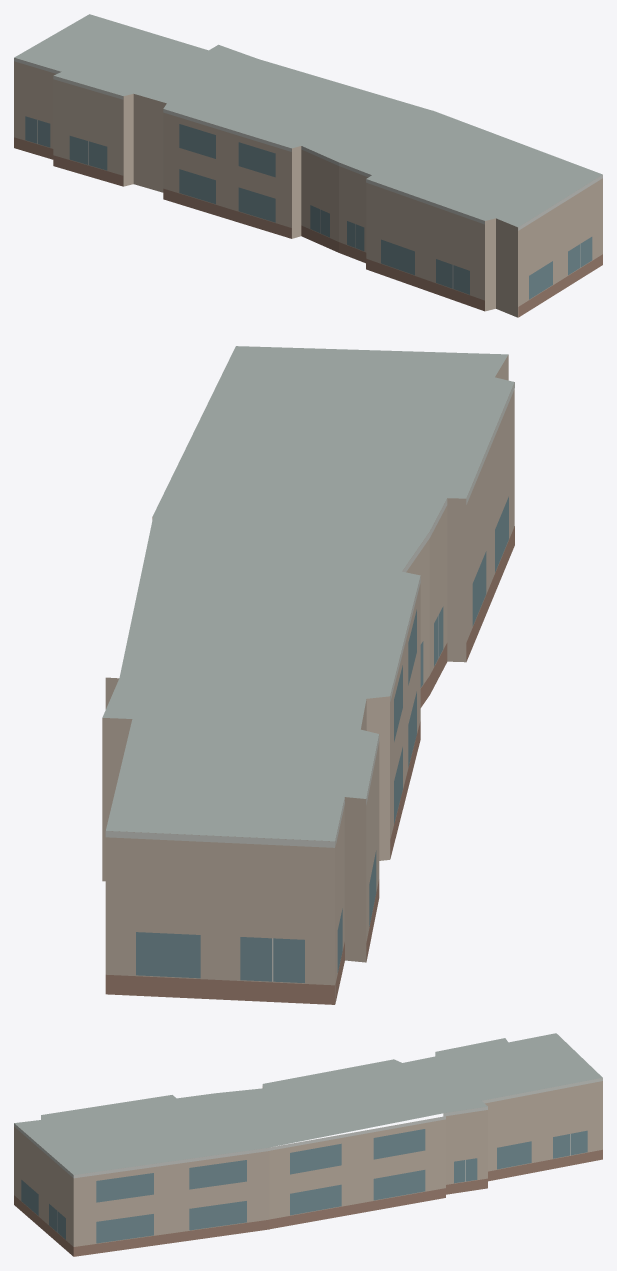
The model's file is survey-upis-32920589.glb.
3 views of the same model, one above another, from view 1: azimuth 30°, elevation 25°; view 2: azimuth 150°, elevation 25°; view 3: azimuth 270°, elevation 25° (orthographic). The views are drawn at different scales.
Visible parts, largest first — view 1: survey-upis-32920589.tmp; view 2: survey-upis-32920589.tmp; view 3: survey-upis-32920589.tmp.
Boxes of the visible parts, x1,y1,x2,y2 form: survey-upis-32920589.tmp: (14, 14, 602, 317); survey-upis-32920589.tmp: (102, 346, 514, 1004); survey-upis-32920589.tmp: (14, 1033, 602, 1256).
Size of the model in its own units: 22.73 by 6.1 by 39.83.
